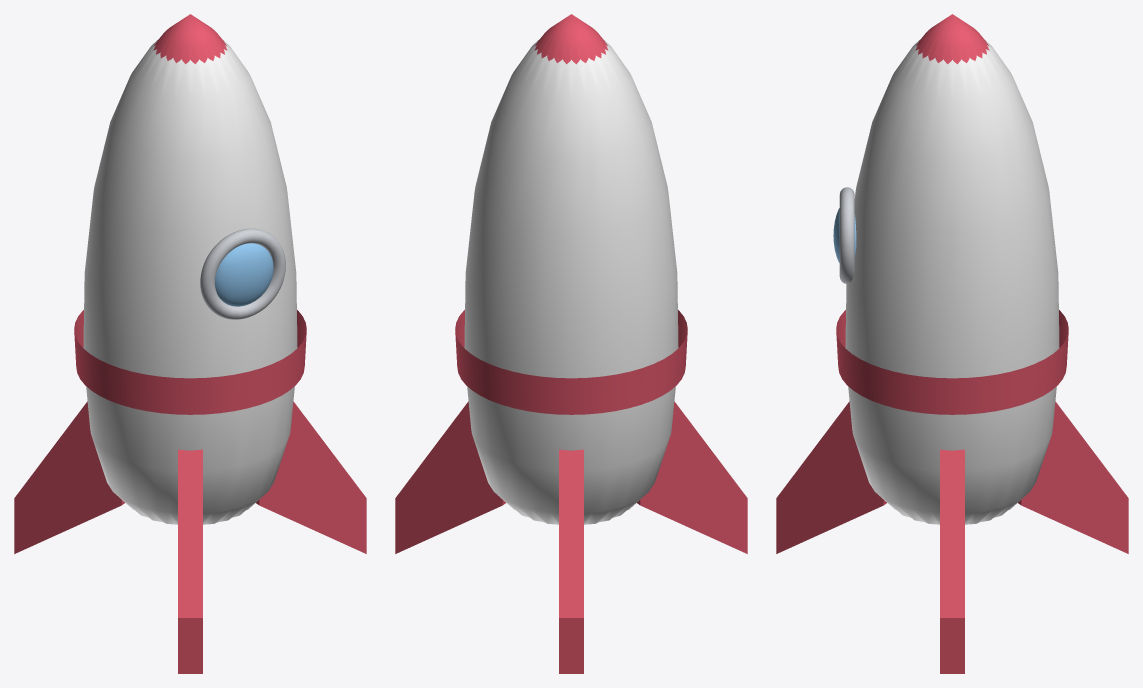
File: deco_cohete_mesa.glb
3 views of the same model, side by side, from view 1: azimuth 30°, elevation 25°; view 2: azimuth 150°, elevation 25°; view 3: azimuth 270°, elevation 25° (orthographic).
Visible parts, largest first — view 1: fuselaje.001, franja cohete.001, aleta 0.001, aleta 1.001, aleta 2.001, marco ventana.001, ventana cohete.001, punta cohete.001; view 2: fuselaje.001, franja cohete.001, aleta 0.001, aleta 2.001, aleta 1.001, punta cohete.001; view 3: fuselaje.001, franja cohete.001, aleta 1.001, aleta 2.001, aleta 0.001, punta cohete.001, marco ventana.001.
Part boxes in pixels (x1,y1,x2,y2): fuselaje.001: (83, 39, 297, 524); franja cohete.001: (74, 310, 306, 414); aleta 0.001: (256, 401, 366, 553); aleta 1.001: (14, 401, 124, 553); aleta 2.001: (178, 449, 202, 673); marco ventana.001: (200, 228, 285, 319); ventana cohete.001: (215, 243, 273, 306); punta cohete.001: (153, 14, 227, 64); fuselaje.001: (464, 39, 678, 524); franja cohete.001: (455, 310, 687, 414); aleta 0.001: (395, 401, 505, 553); aleta 2.001: (637, 401, 747, 553); aleta 1.001: (559, 449, 583, 673); punta cohete.001: (534, 14, 608, 64); fuselaje.001: (845, 39, 1059, 524); franja cohete.001: (836, 310, 1068, 414); aleta 1.001: (1018, 401, 1128, 553); aleta 2.001: (776, 401, 886, 553); aleta 0.001: (940, 449, 964, 673); punta cohete.001: (915, 14, 989, 64); marco ventana.001: (839, 187, 854, 283).
Size of the model in its own units: 0.1514 by 0.3085 by 0.1706.
